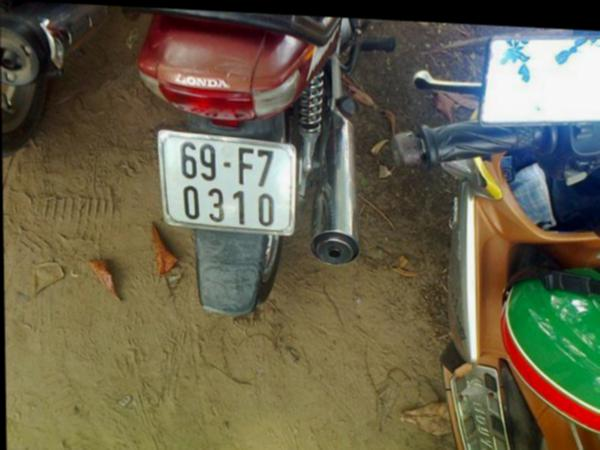License_Plate: (155, 129, 295, 237)
